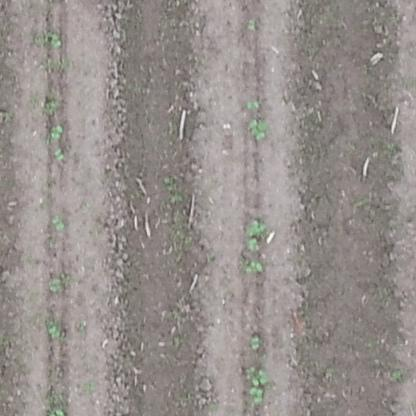vc: (247, 119, 270, 141), (245, 217, 268, 238), (246, 388, 267, 406), (252, 368, 271, 387), (50, 213, 67, 234), (46, 276, 64, 293), (47, 320, 61, 341), (246, 258, 264, 274), (249, 331, 262, 352), (50, 32, 65, 50), (50, 123, 65, 140), (245, 97, 262, 111), (242, 240, 262, 251), (52, 148, 65, 162)
